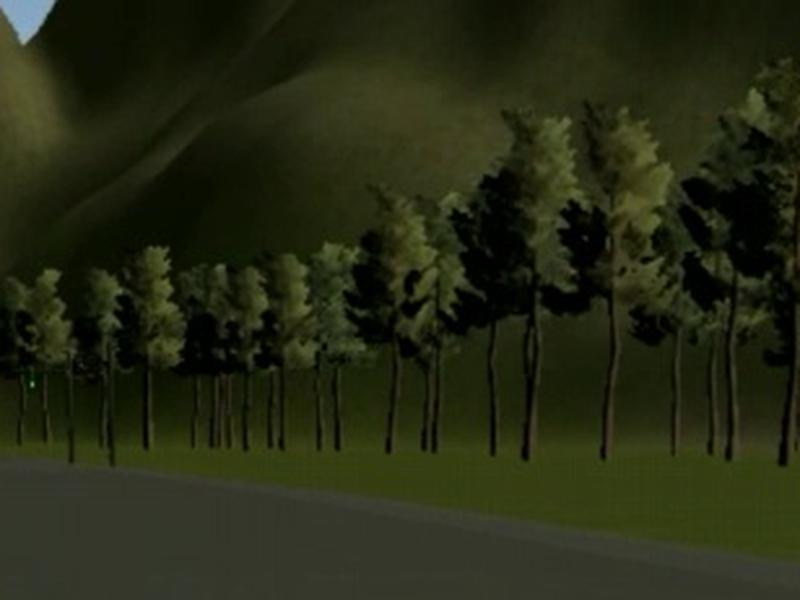Green: (26, 363, 37, 393)
